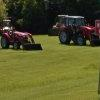Tractor: (48, 7, 100, 68)
